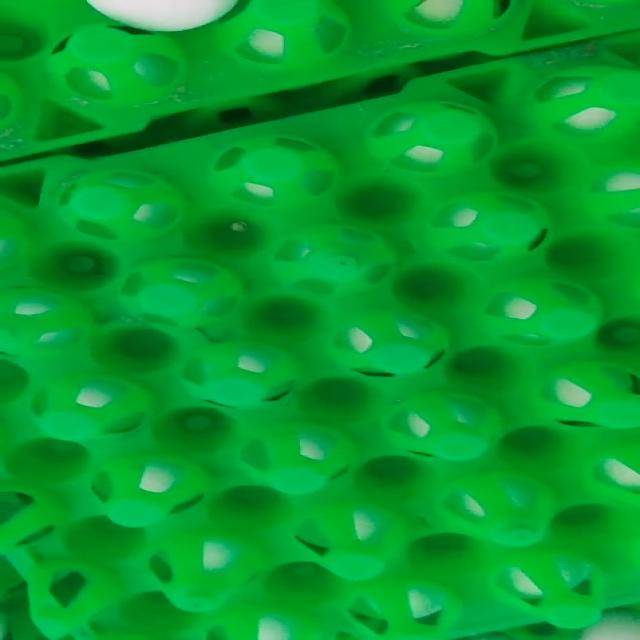egg_tray: (0, 46, 639, 639), (0, 0, 639, 159), (3, 0, 503, 158), (466, 605, 639, 639), (88, 0, 237, 32), (616, 38, 631, 50), (174, 2, 186, 13), (177, 2, 186, 11), (147, 3, 154, 11), (185, 122, 194, 126), (149, 15, 157, 19), (167, 122, 175, 126), (157, 125, 161, 130), (147, 3, 151, 8), (137, 8, 142, 11), (165, 3, 167, 5), (166, 3, 169, 4), (425, 3, 427, 4), (104, 0, 106, 1), (515, 8, 517, 8)
